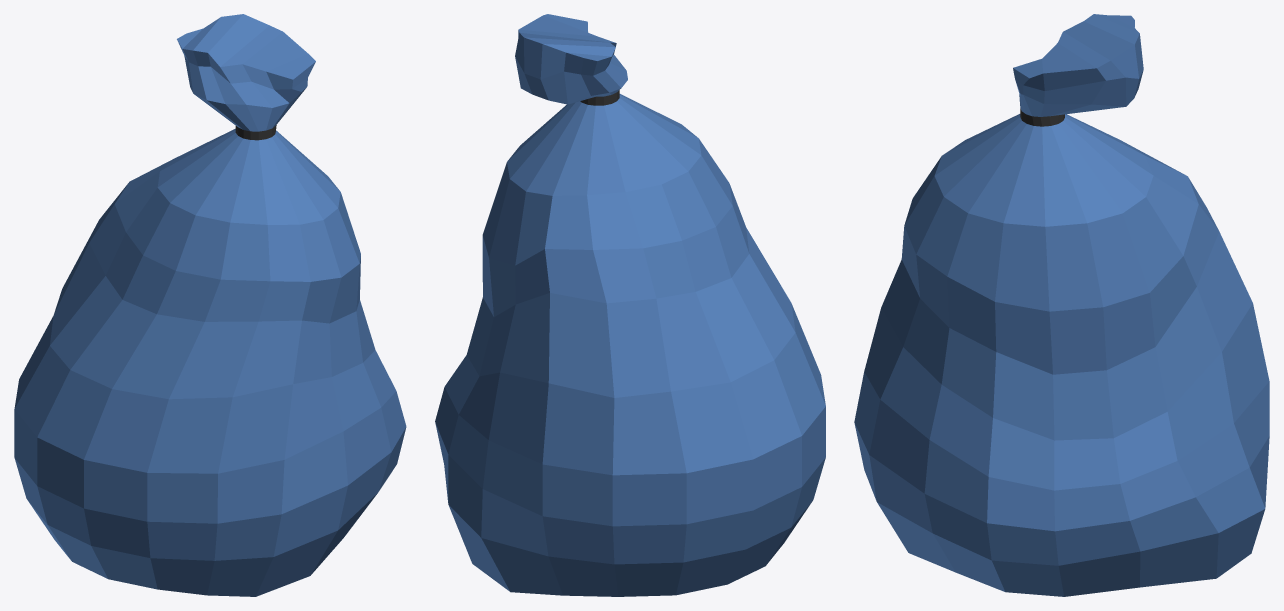
The model's file is Garbagabag_3_Partyassets.fbx.
The picture shows the model from 3 angles, left to right: view 1: azimuth 30°, elevation 25°; view 2: azimuth 150°, elevation 25°; view 3: azimuth 270°, elevation 25°; orthographic projection. The views are drawn at different scales.
Visible parts, largest first — view 1: Garbagabag_3_Partyassets; view 2: Garbagabag_3_Partyassets; view 3: Garbagabag_3_Partyassets.
Boxes of the visible parts, left/top/right/bottom form: Garbagabag_3_Partyassets: left=14, top=14, right=406, bottom=596; Garbagabag_3_Partyassets: left=435, top=14, right=825, bottom=596; Garbagabag_3_Partyassets: left=854, top=14, right=1269, bottom=596.
Bounding box in the file's own units: 59.49 × 81.54 × 57.81.
